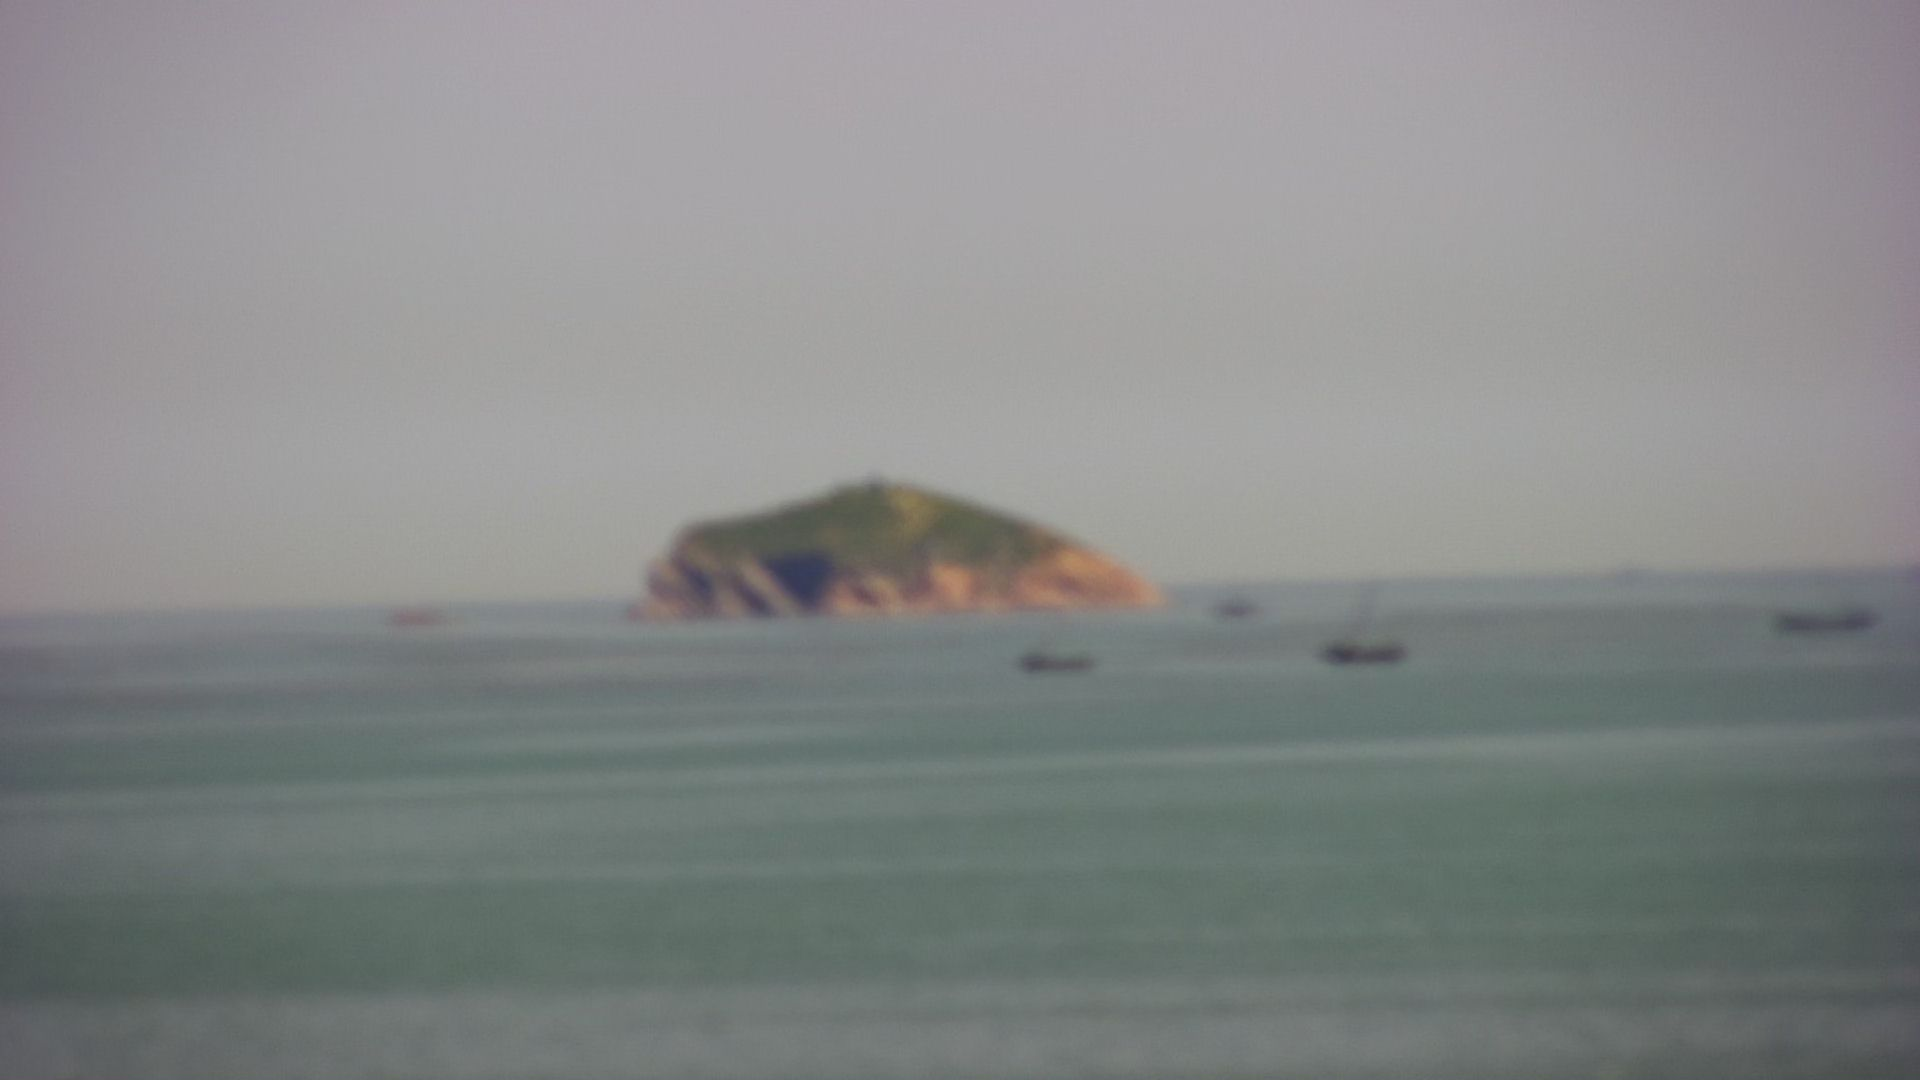rock: (578, 440, 1201, 626)
